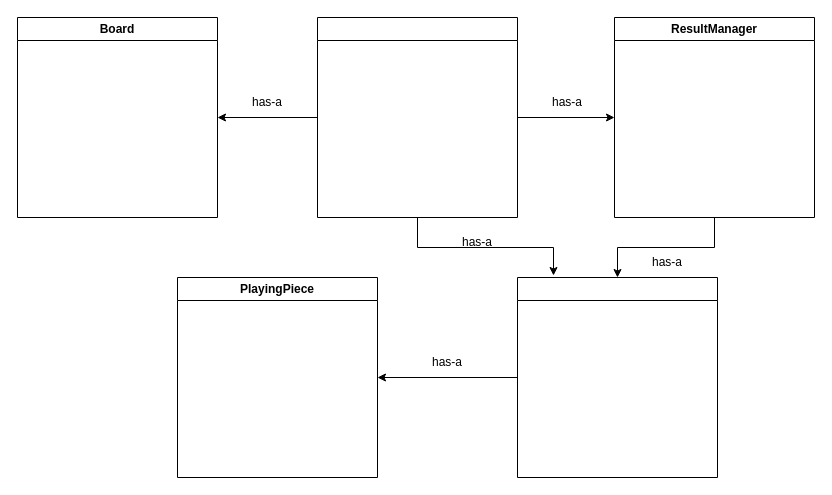
Image size: 832x495. Some labels were removed from this diagram. The centre of each missing label's shape, as x and y in pixels:
"GameManager" belongs at (417,117).
"Player" belongs at (617,377).
